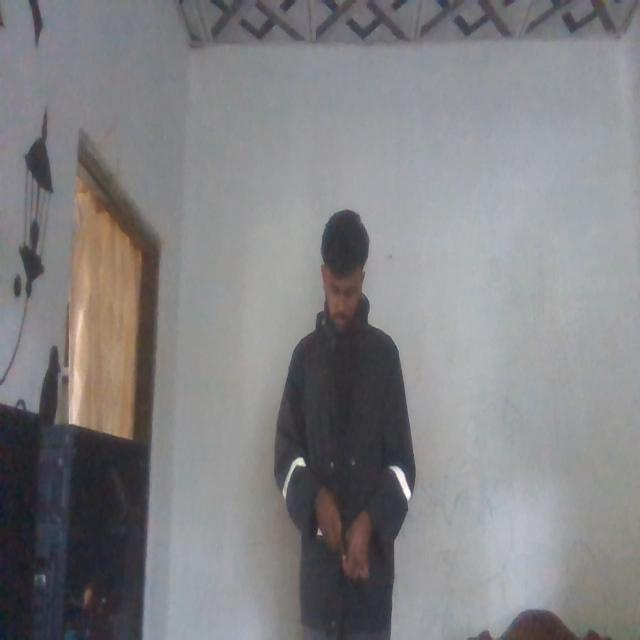Jacket_Wearer: (268, 307, 414, 609)
Person: (270, 203, 416, 640)
